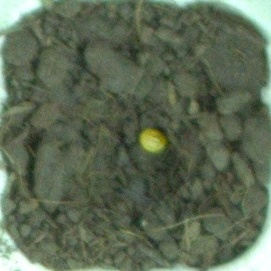pepper seed: (51, 48, 221, 203)
